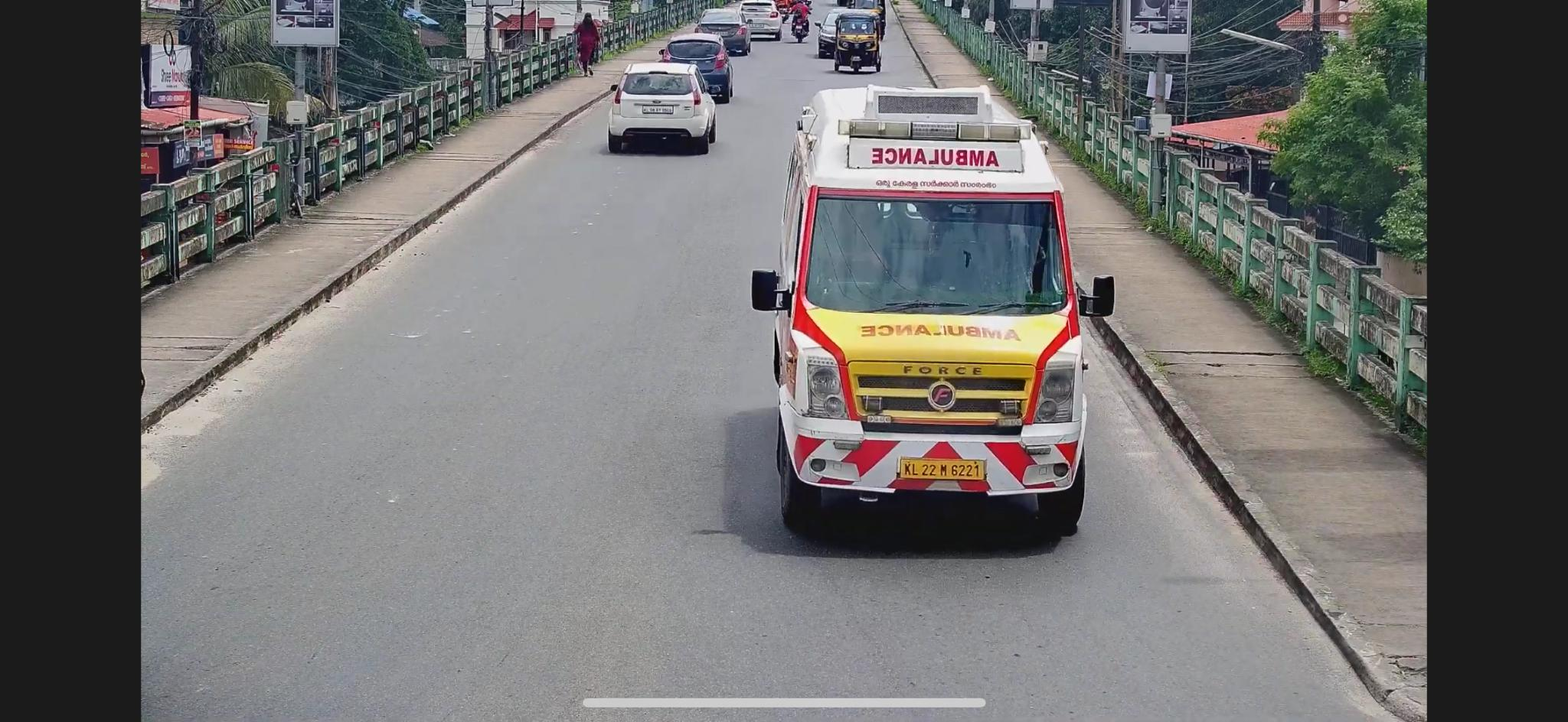ambulance: (773, 85, 1092, 534)
